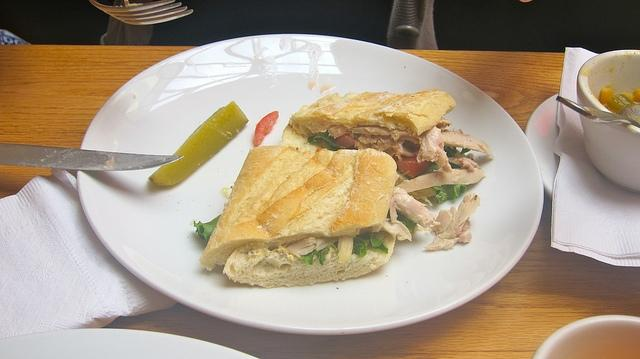lettuce: (352, 232, 389, 258), (300, 244, 336, 266), (194, 214, 222, 241), (308, 130, 342, 151), (432, 184, 467, 204)
tomato: (254, 112, 279, 146), (396, 156, 430, 178), (335, 134, 356, 148)
